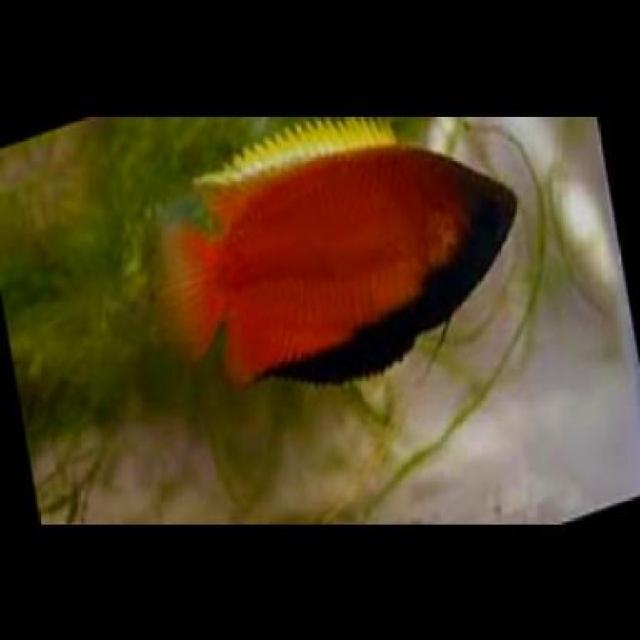Gourami: (164, 115, 519, 390)
